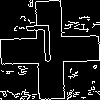L: (25, 25, 54, 72)
